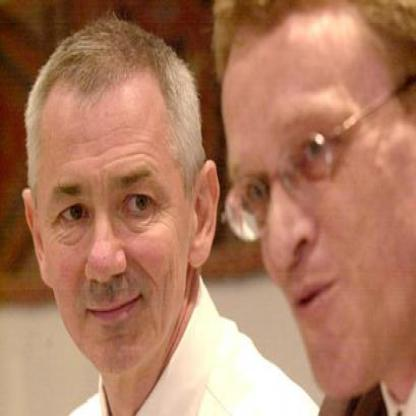face: (37, 25, 193, 380), (1, 1, 3, 3)
